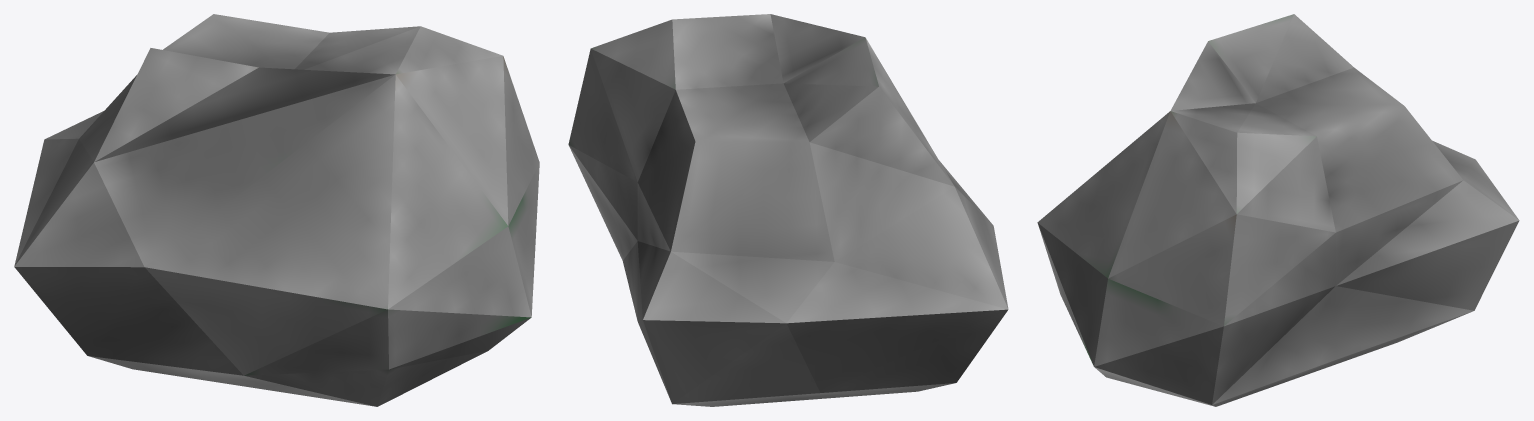
File: GJ_Decor_Exterior_Rock_04.fbx
3 views of the same model, side by side, from view 1: azimuth 30°, elevation 25°; view 2: azimuth 150°, elevation 25°; view 3: azimuth 270°, elevation 25° (orthographic). The views are drawn at different scales.
Parts seen in each view (by area): view 1: GJ_Decor_Exterior_Rock_04; view 2: GJ_Decor_Exterior_Rock_04; view 3: GJ_Decor_Exterior_Rock_04.
Boxes of the visible parts, bbox=[...] form: GJ_Decor_Exterior_Rock_04: bbox=[14, 14, 539, 406]; GJ_Decor_Exterior_Rock_04: bbox=[568, 14, 1008, 406]; GJ_Decor_Exterior_Rock_04: bbox=[1037, 14, 1519, 406].
Bounding box in the file's own units: 2.14 × 1.3 × 2.03.
Materials: 1 (1 with a texture image).
